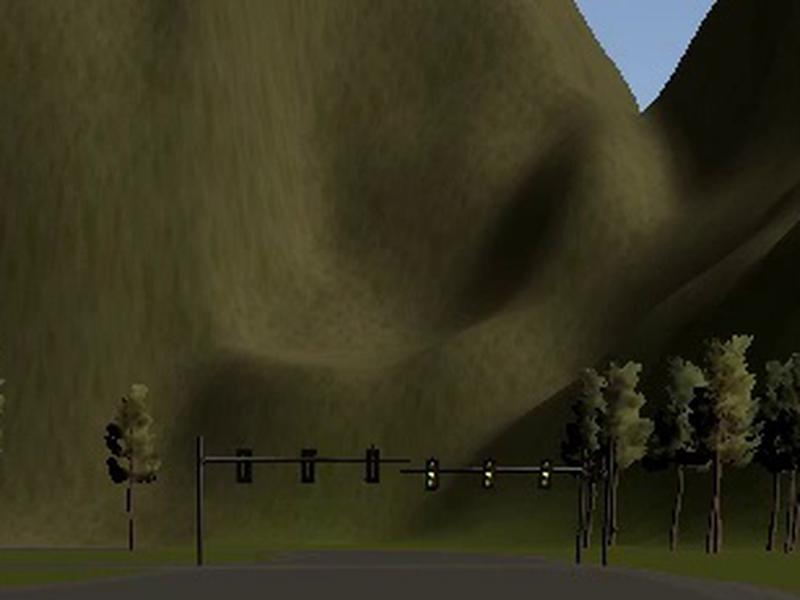Yellow: (422, 458, 440, 492), (538, 458, 552, 490), (482, 457, 495, 489)
